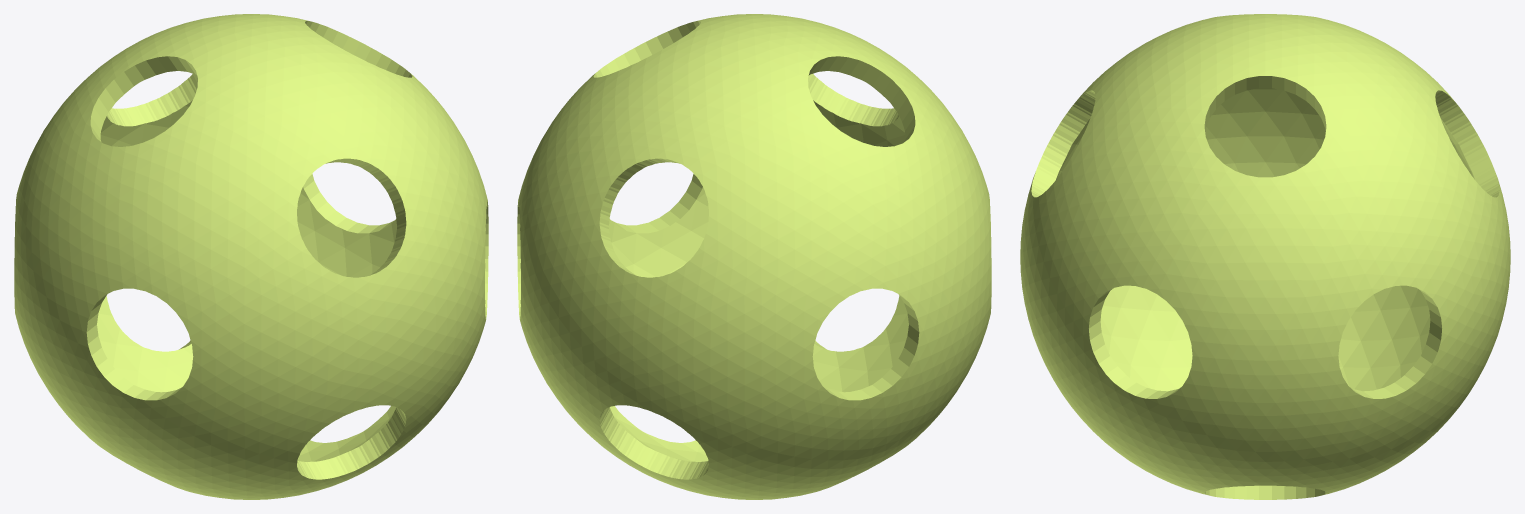
File: pickleball_ball.glb
3 views of the same model, side by side, from view 1: azimuth 30°, elevation 25°; view 2: azimuth 150°, elevation 25°; view 3: azimuth 270°, elevation 25° (orthographic).
Parts seen in each view (by area): view 1: Ball_Mesh; view 2: Ball_Mesh; view 3: Ball_Mesh.
Boxes of the visible parts, x1,y1,x2,y2 form: Ball_Mesh: (14, 14, 488, 499); Ball_Mesh: (517, 14, 991, 499); Ball_Mesh: (1020, 14, 1510, 499).
Size of the model in its own units: 0.074 by 0.074 by 0.074.
